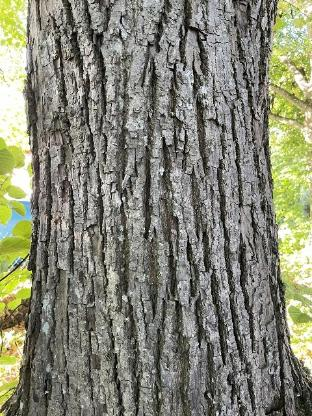tree: (13, 0, 300, 416)
